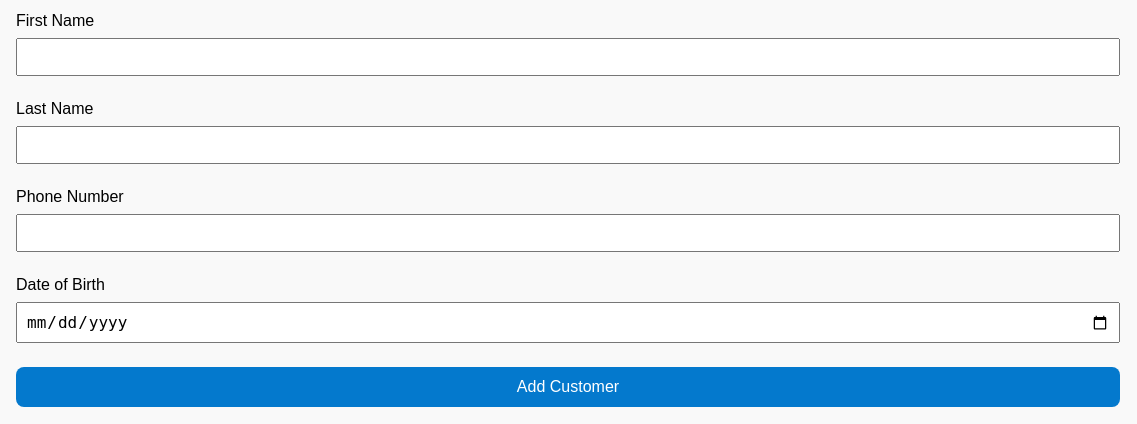
Customer form validation on submit test › Failure on the same first and last name validation test(case insensitive)
Type "BOB" into the field with test id "firstName" at (568, 57), box [16,38,1120,76]
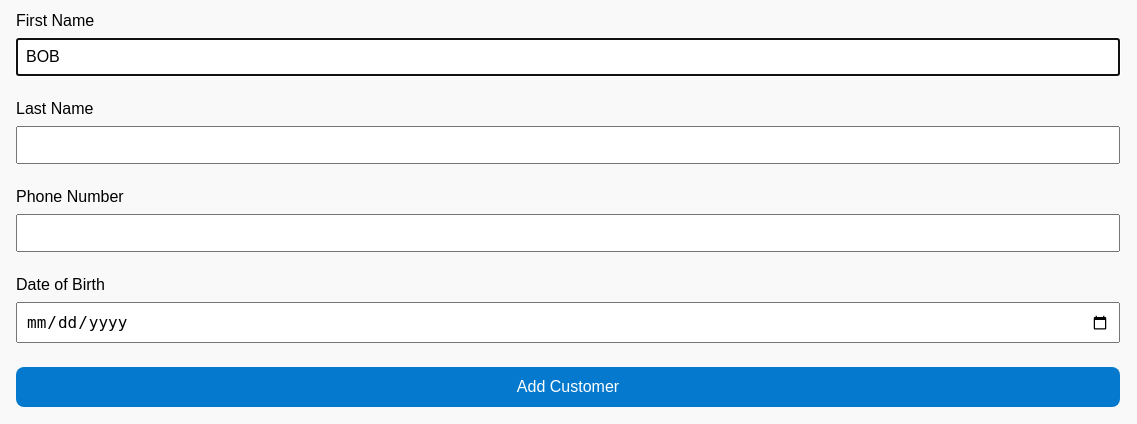
Type "bob" into the field with test id "lastName" at (568, 145), box [16,126,1120,164]
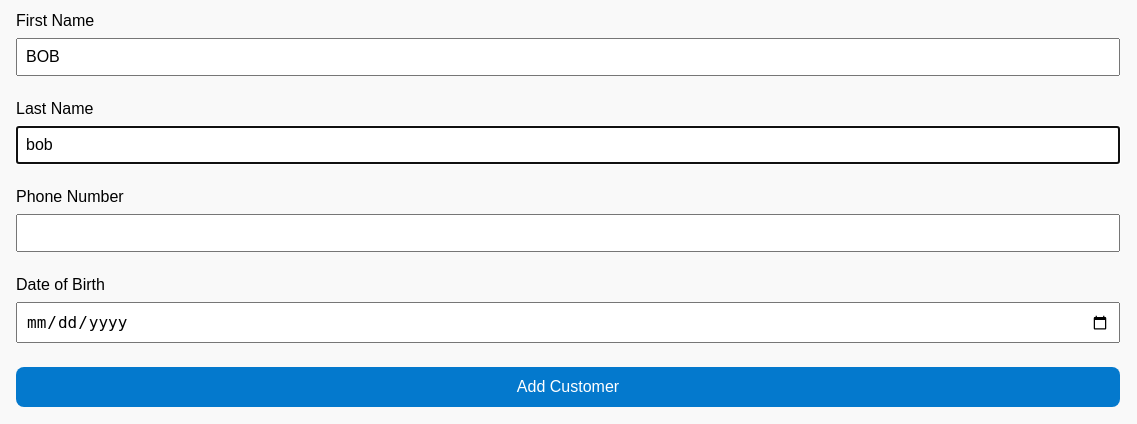
Click the button with test id "customerSubmitButton" at (568, 387), box [16,367,1120,407]
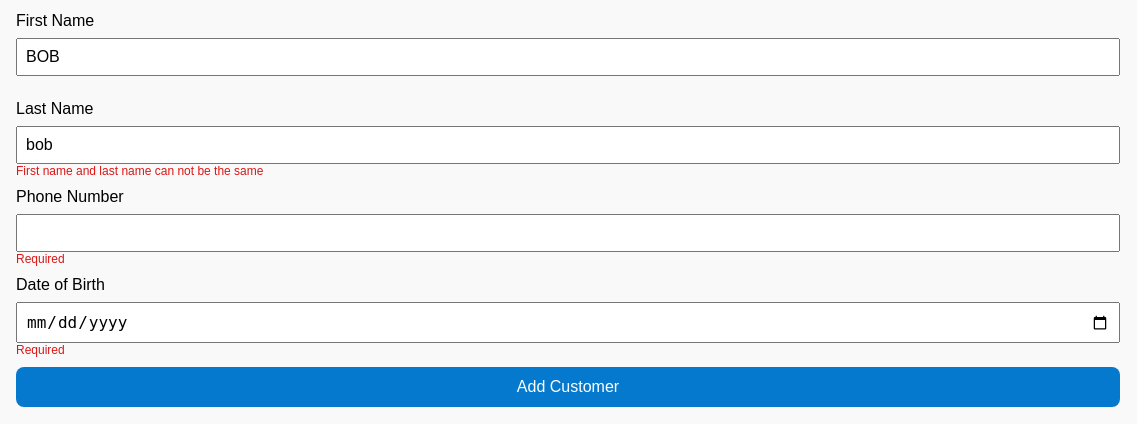
Now the text with test id "errorLastName" reads "First name and last name can not be the same", box [16,164,264,178]
